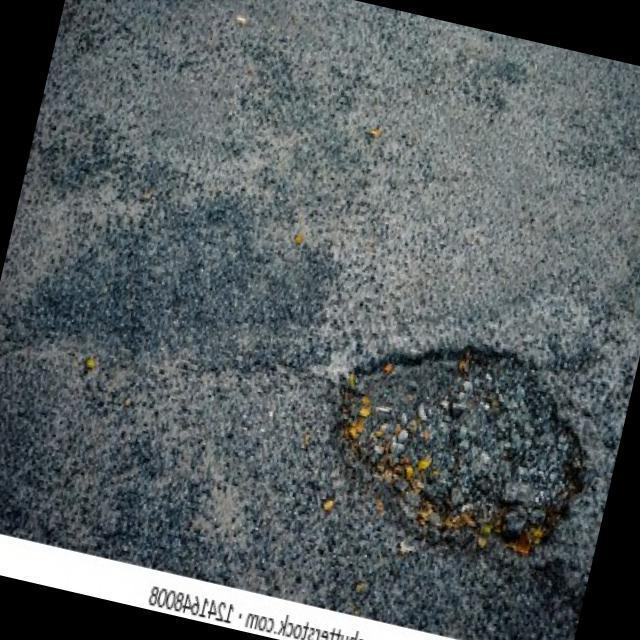pothole: (311, 312, 613, 579)
